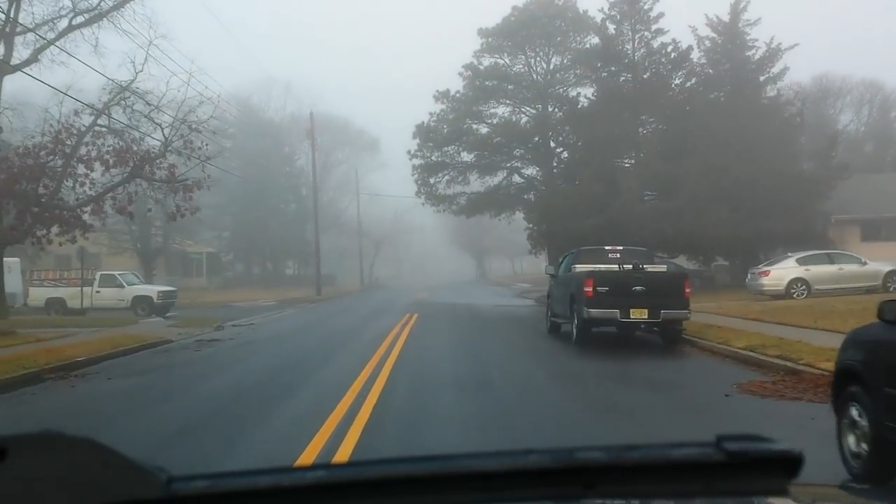bus: (542, 247, 695, 350)
car: (824, 290, 896, 484), (25, 266, 179, 320), (746, 246, 896, 299)
